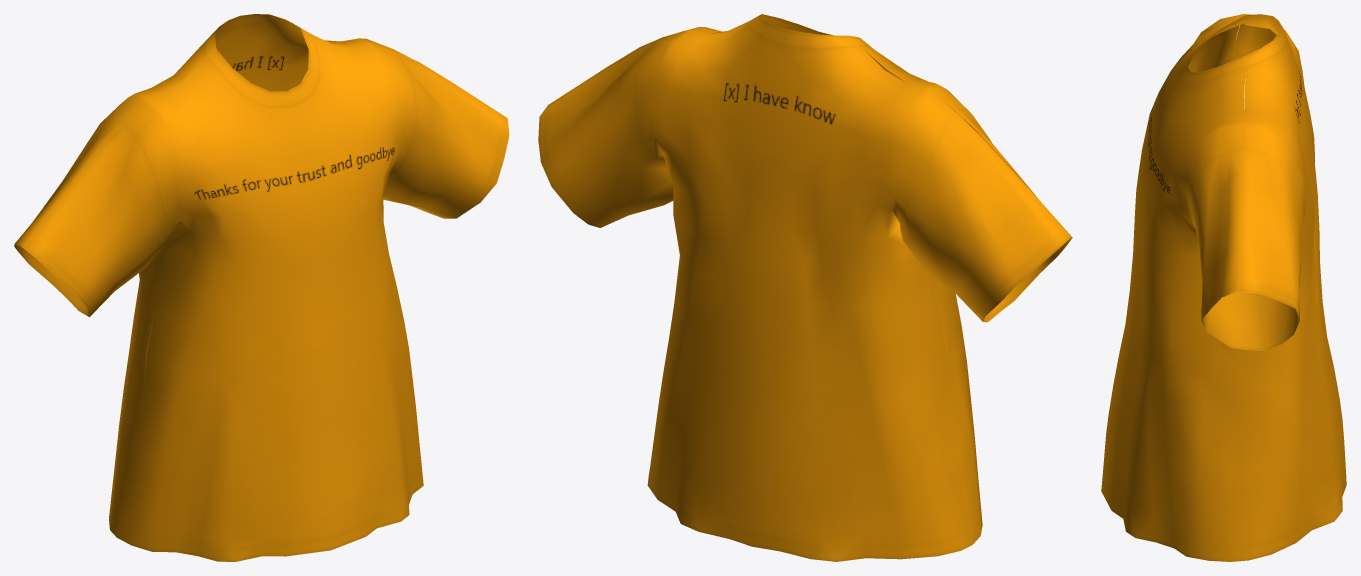
Rendered from tshirt_apose.glb.
3 views of the same model, side by side, from view 1: azimuth 30°, elevation 25°; view 2: azimuth 150°, elevation 25°; view 3: azimuth 270°, elevation 25° (orthographic). The views are drawn at different scales.
Parts seen in each view (by area): view 1: tshirt_apose; view 2: tshirt_apose; view 3: tshirt_apose.
Part boxes in pixels (<box>): tshirt_apose: <box>14,14,509,561</box>; tshirt_apose: <box>538,14,1072,561</box>; tshirt_apose: <box>1101,14,1346,561</box>.
Bounding box in the file's own units: 0.7679 × 0.704 × 0.3368.
Materials: 1 (1 with a texture image).
